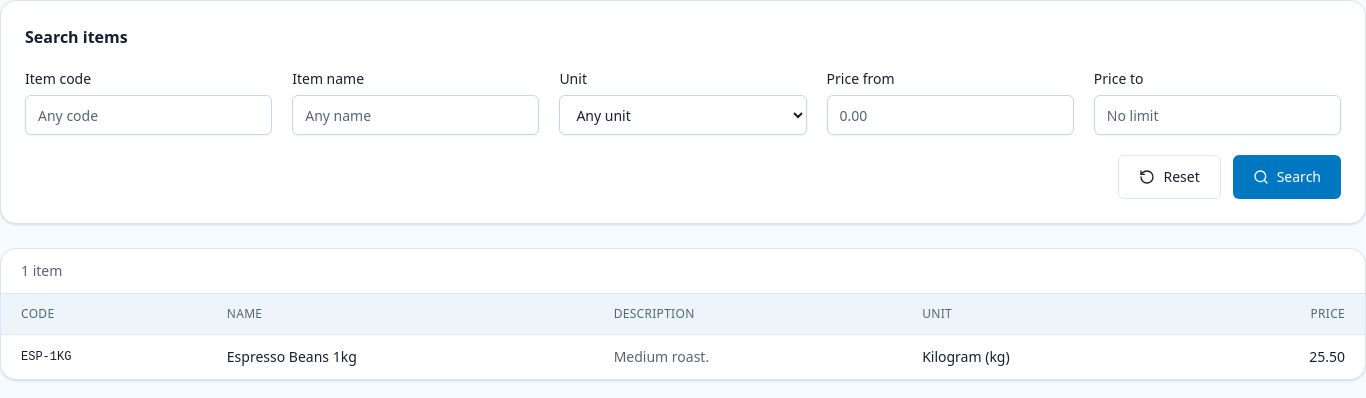
Test: ItemListPage › leaves empty filters out of the request
Expected: the text "1 item" is shown, x1=1 y1=249 x2=1365 y2=294
In the field labelled "Item name": (416, 115) x1=292 y1=95 x2=539 y2=135, type "beans"
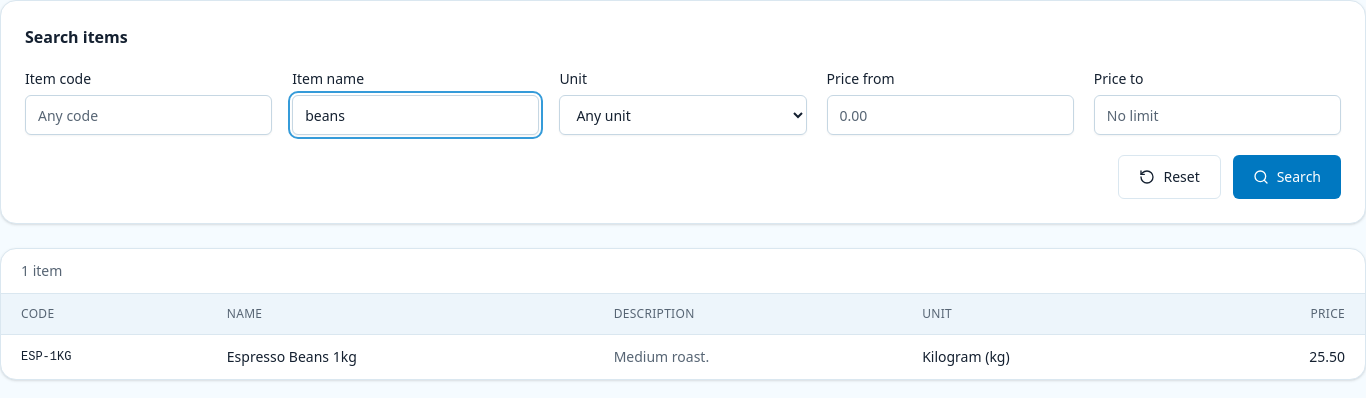
Click the button "Search": (1287, 177) x1=1233 y1=155 x2=1341 y2=199
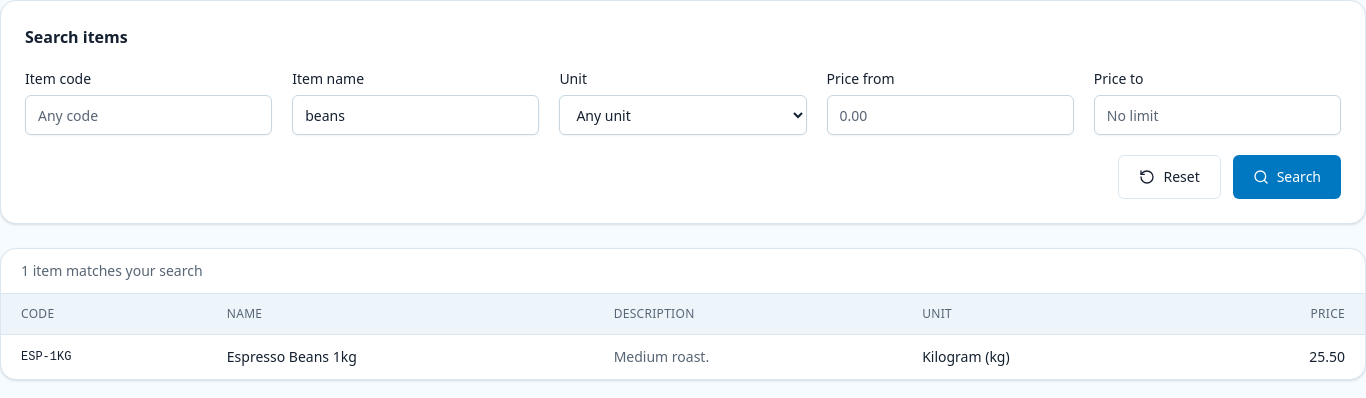
Now the text "1 item matches your search" is shown, box x1=1 y1=249 x2=1365 y2=294
